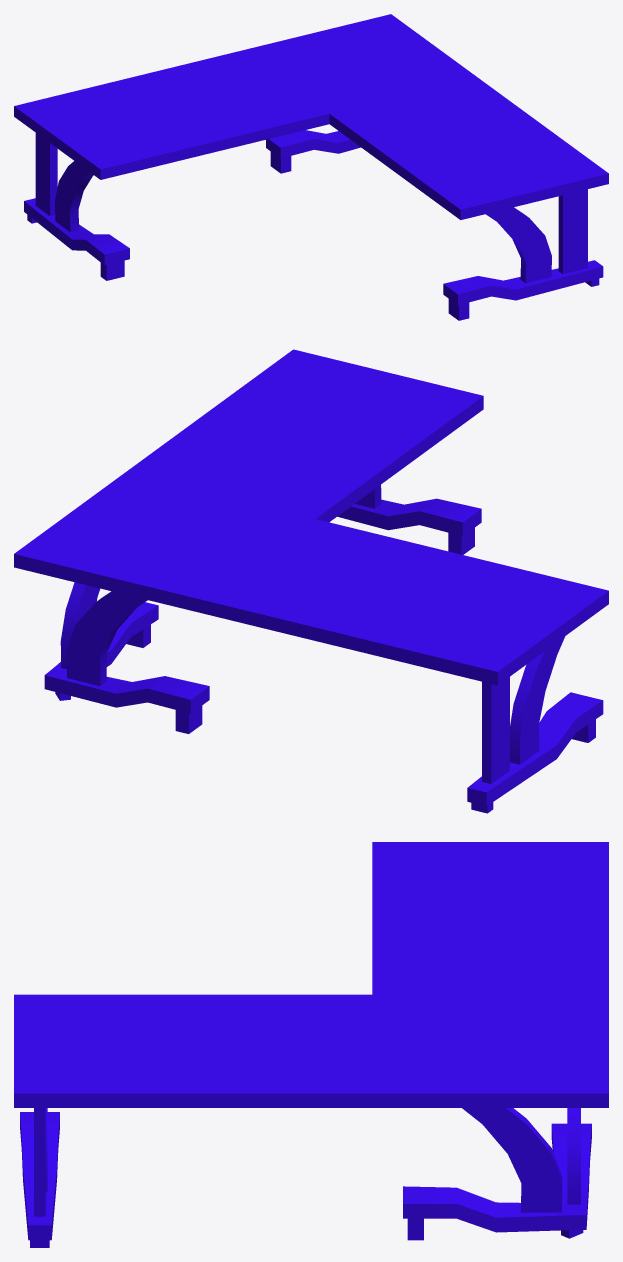
The model's file is office_pack_table_L_large_3_meshCollider.fbx.
3 views of the same model, one above another, from view 1: azimuth 30°, elevation 25°; view 2: azimuth 150°, elevation 25°; view 3: azimuth 270°, elevation 25° (orthographic). The views are drawn at different scales.
Parts seen in each view (by area): view 1: office_pack_table_L_large_3_meshCollider; view 2: office_pack_table_L_large_3_meshCollider; view 3: office_pack_table_L_large_3_meshCollider.
Part boxes in pixels (x1,y1,x2,y2): office_pack_table_L_large_3_meshCollider: [14, 14, 608, 320]; office_pack_table_L_large_3_meshCollider: [14, 349, 608, 813]; office_pack_table_L_large_3_meshCollider: [14, 842, 608, 1247].
Bounding box in the file's own units: 150 × 43.76 × 150.
